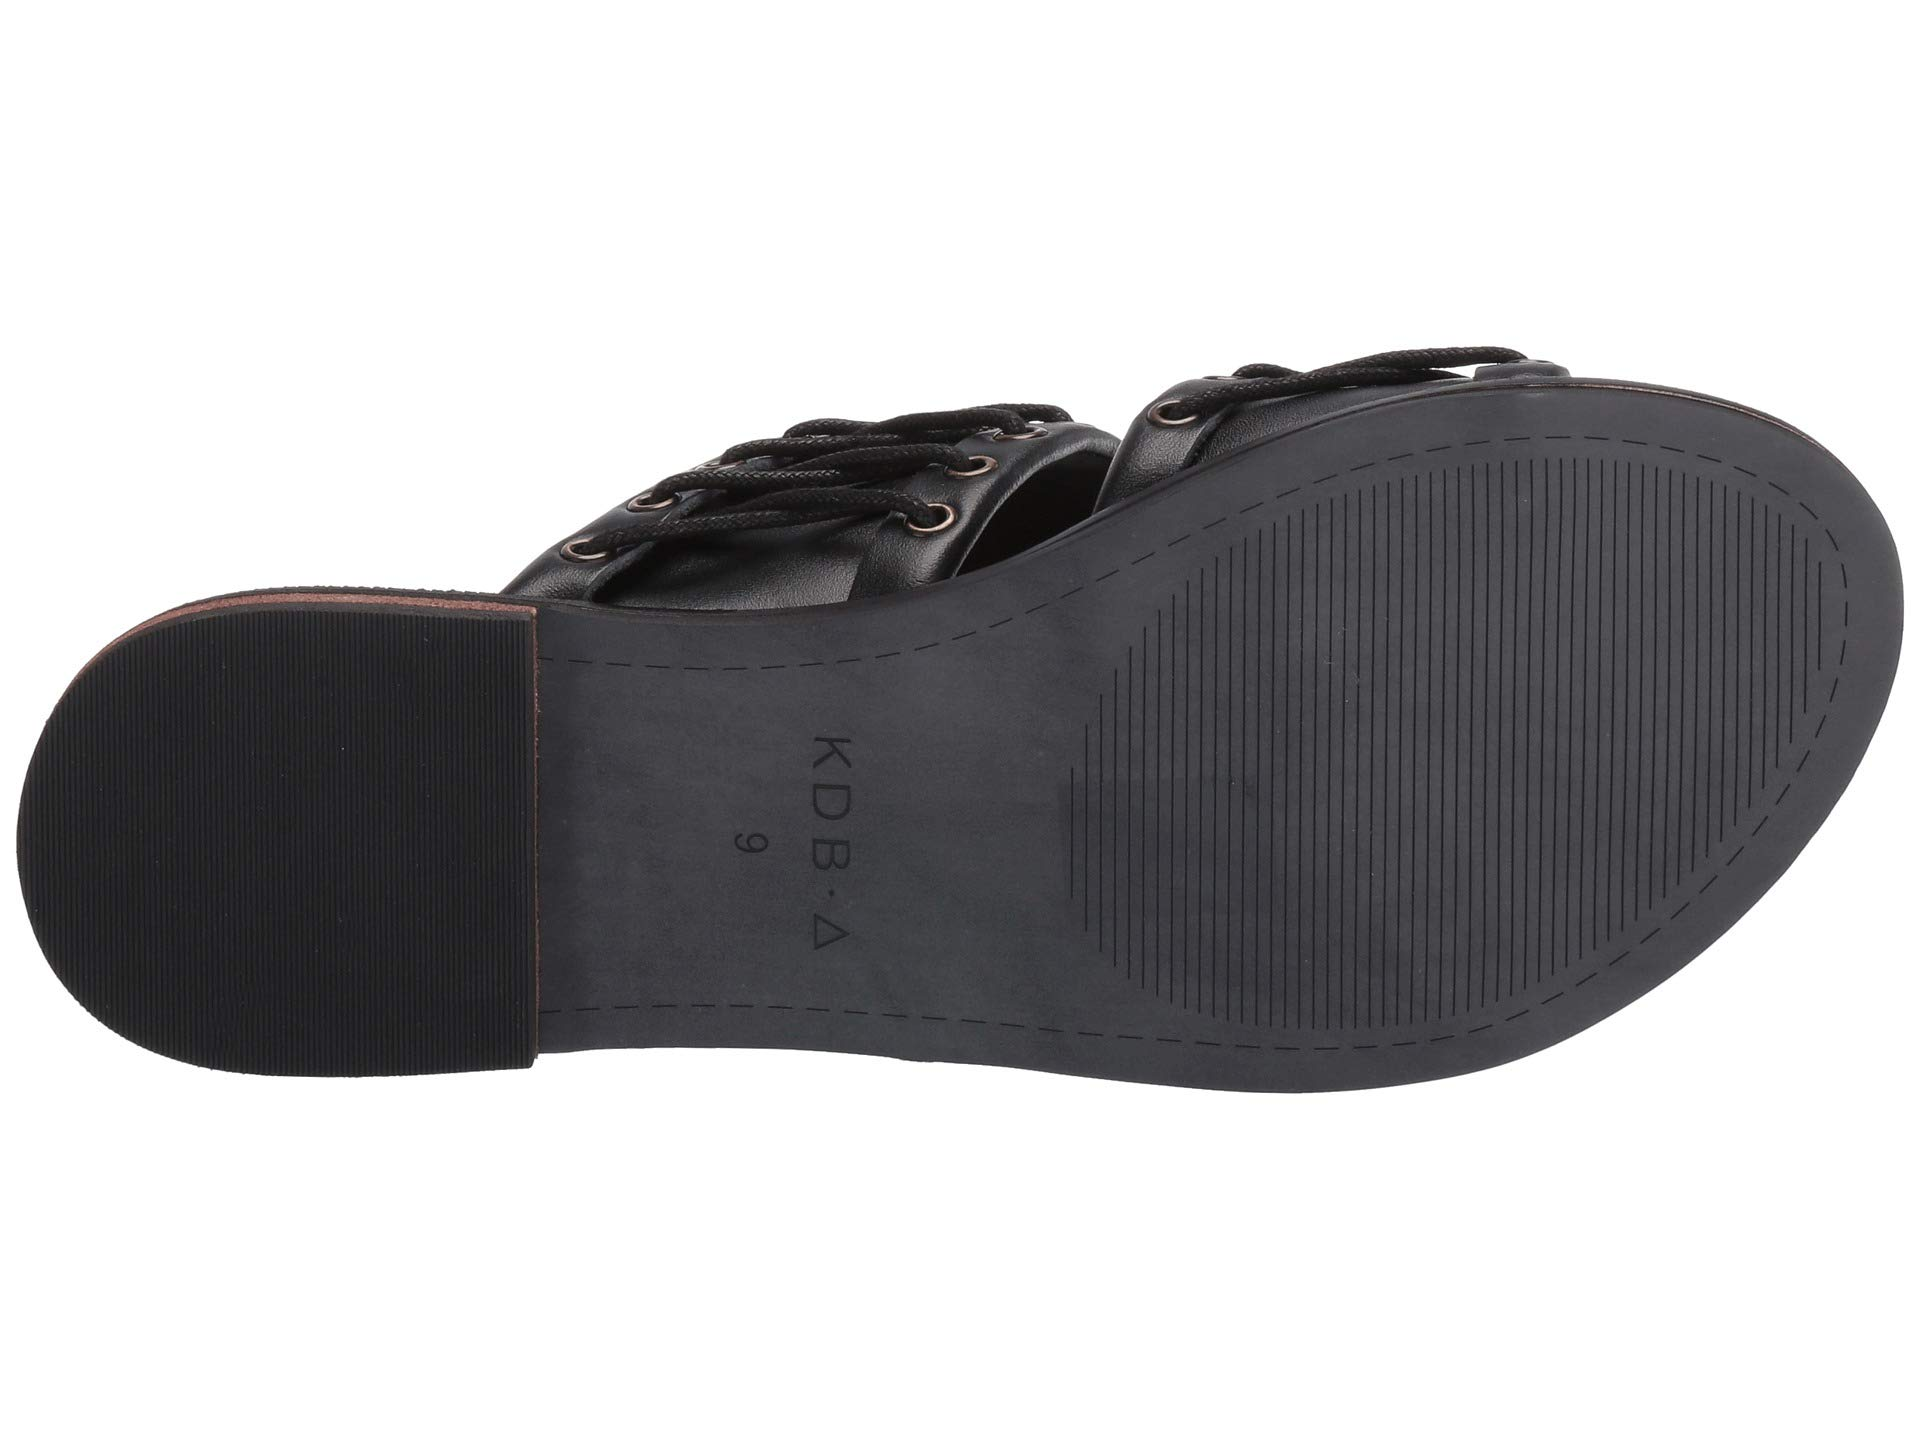line: (1226, 578, 1568, 898)
